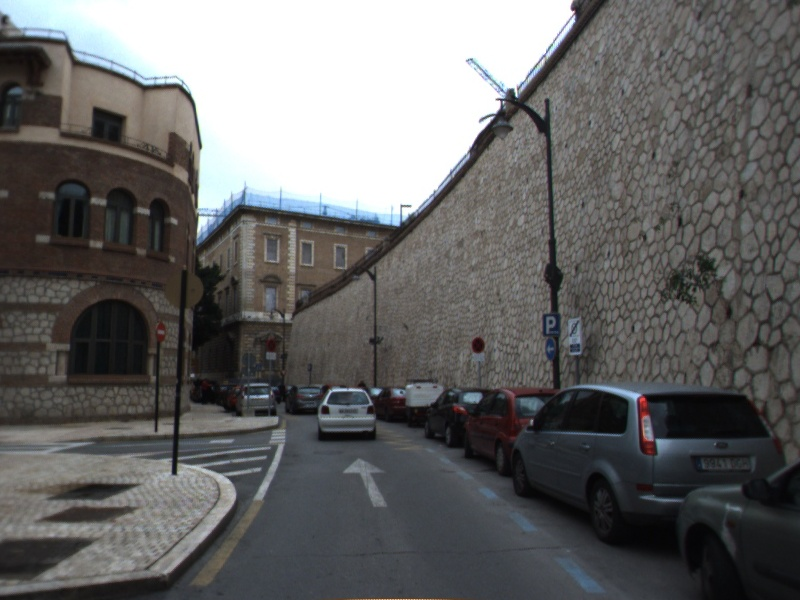STRAIGHT: (341, 456, 389, 509)
